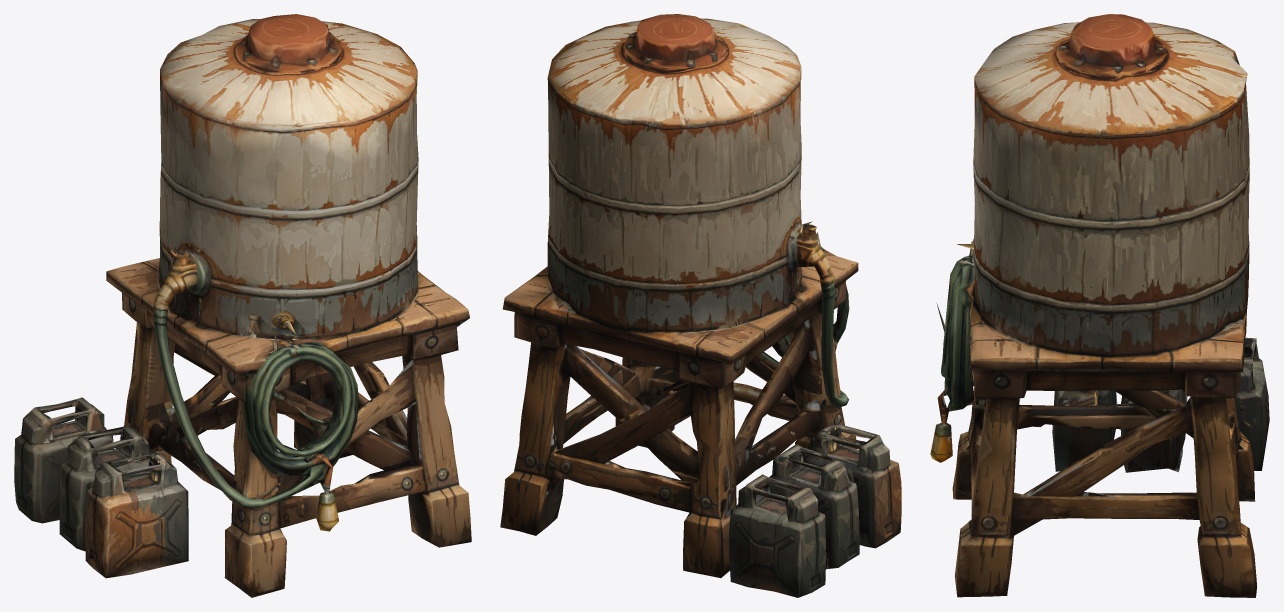
File: EX_Camp_WaterTank.fbx
3 views of the same model, side by side, from view 1: azimuth 30°, elevation 25°; view 2: azimuth 150°, elevation 25°; view 3: azimuth 270°, elevation 25° (orthographic). The views are drawn at different scales.
Parts seen in each view (by area): view 1: texture_mapping; view 2: texture_mapping; view 3: texture_mapping.
Boxes of the visible parts, x1,y1,x2,y2 form: texture_mapping: [14, 14, 471, 597]; texture_mapping: [500, 14, 901, 597]; texture_mapping: [930, 14, 1269, 597].
Bounding box in the file's own units: 0.6988 × 0.6027 × 1.
1 material, 1 textured.
